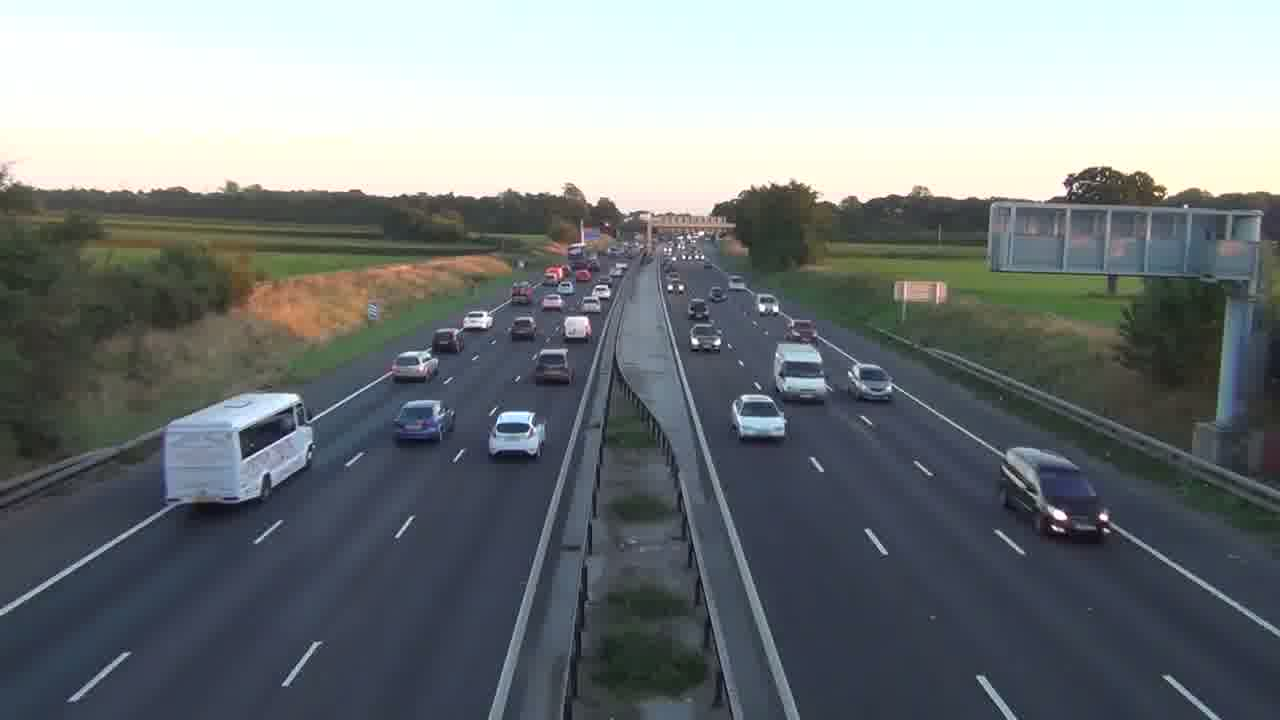bus: (161, 388, 316, 508)
car: (488, 409, 548, 460), (392, 398, 456, 444), (730, 393, 787, 441), (846, 361, 893, 403), (388, 349, 440, 383), (531, 347, 574, 386), (688, 323, 723, 354), (561, 315, 593, 342), (510, 315, 537, 341)
truck: (998, 445, 1111, 541)
